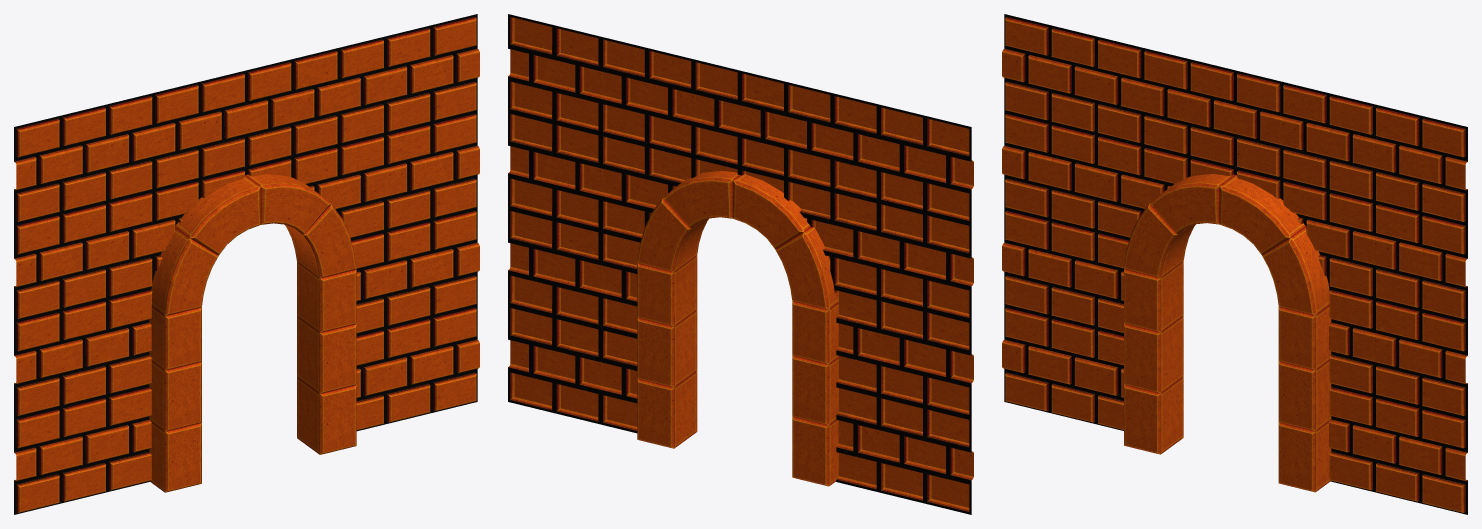
File: Castle_Wall_Plane_Door.fbx
The picture shows the model from 3 angles, left to right: view 1: azimuth 30°, elevation 25°; view 2: azimuth 150°, elevation 25°; view 3: azimuth 330°, elevation 25°; orthographic projection.
Visible parts, largest first — view 1: Wall_Hole_Plane_LOD0; view 2: Wall_Hole_Plane_LOD0; view 3: Wall_Hole_Plane_LOD0.
Boxes of the visible parts, x1=… form: Wall_Hole_Plane_LOD0: x1=14, y1=14, x2=479, y2=514; Wall_Hole_Plane_LOD0: x1=508, y1=14, x2=973, y2=514; Wall_Hole_Plane_LOD0: x1=1002, y1=14, x2=1467, y2=514.
Size of what is drawn, in the model's own units: 1000 by 800 by 94.97.
